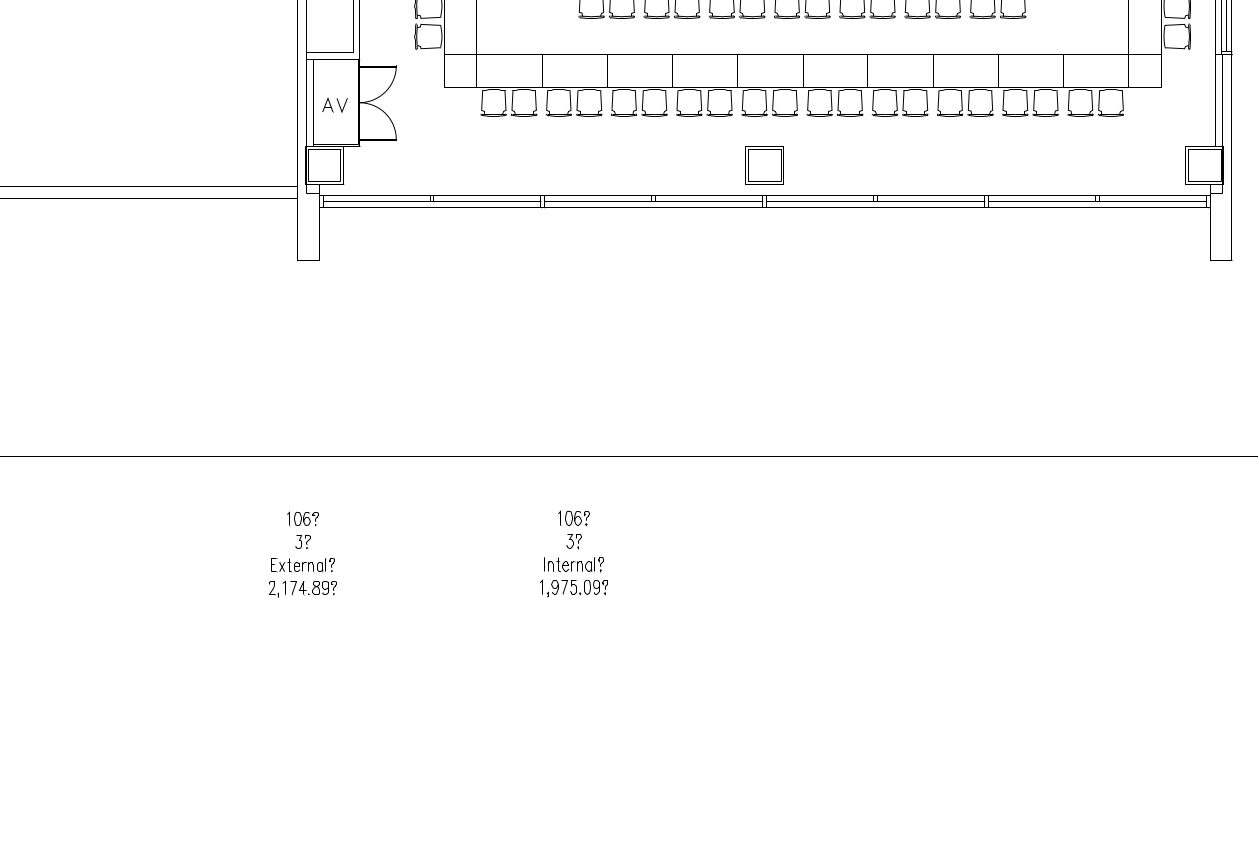door: (357, 61, 402, 102), (357, 102, 402, 143)
